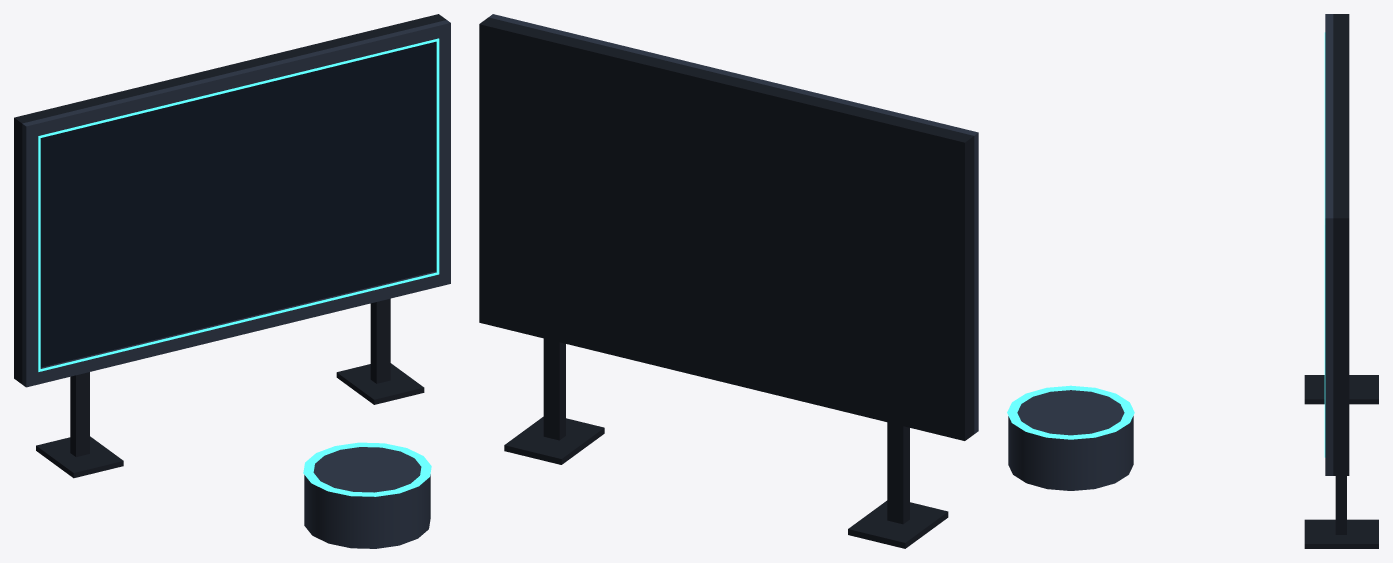
The picture shows the model from 3 angles, left to right: view 1: azimuth 30°, elevation 25°; view 2: azimuth 150°, elevation 25°; view 3: azimuth 270°, elevation 25°; orthographic projection. The views are drawn at different scales.
Visible parts, largest first — view 1: nexo_frame.lod1; view 2: nexo_frame.lod1; view 3: nexo_frame.lod1.
Part boxes in pixels (x1,y1,x2,y2): nexo_frame.lod1: [14, 14, 450, 548]; nexo_frame.lod1: [479, 14, 978, 548]; nexo_frame.lod1: [1007, 14, 1378, 548].
Bounding box in the file's own units: 4.24 × 3.37 × 3.26.
